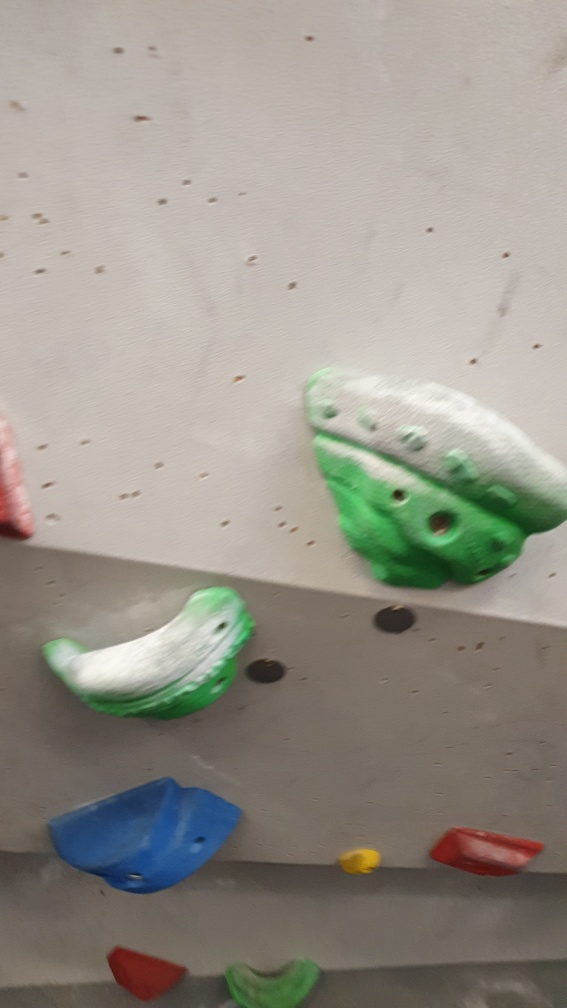Crimp: (431, 812, 547, 885)
Hand Start: (362, 599, 427, 648), (240, 648, 290, 697)
Jug: (304, 356, 567, 601), (34, 578, 260, 726), (220, 946, 331, 1008)
Pinch: (42, 768, 246, 898)
